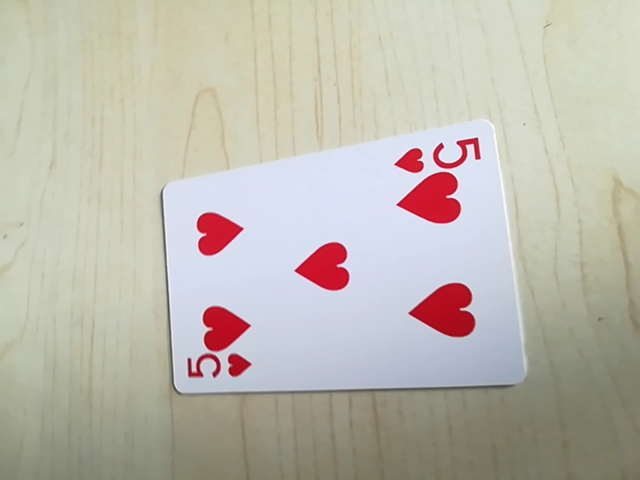hx 5: (393, 130, 485, 174), (182, 352, 252, 389)
